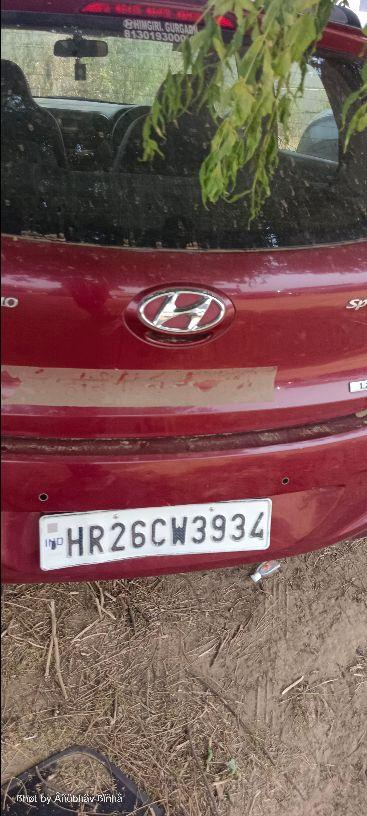license_plate: (37, 496, 273, 572)
